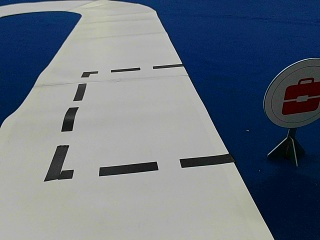company: (264, 58, 318, 126)
